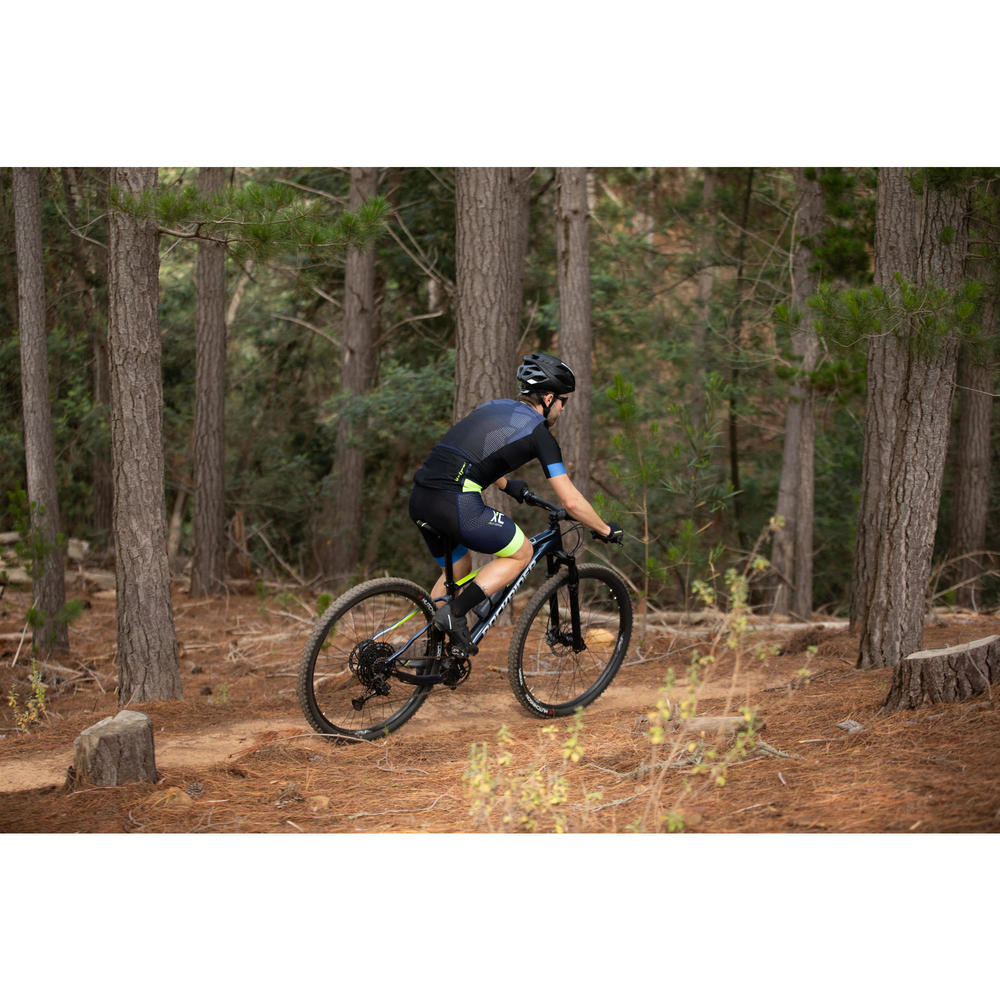MountainBike: (301, 484, 646, 735)
